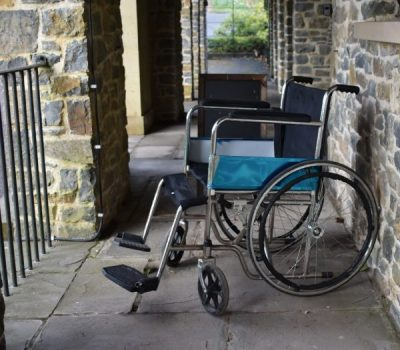wheelchair: (108, 76, 365, 316)
